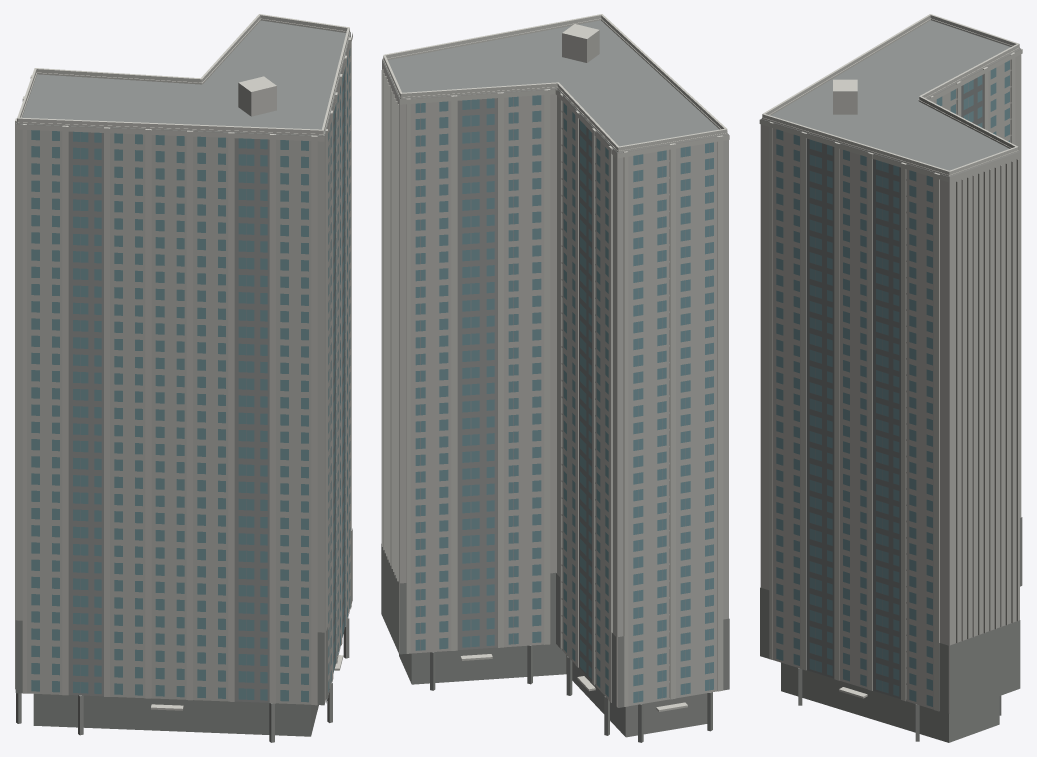
File: maple-xi-105.glb
The picture shows the model from 3 angles, left to right: view 1: azimuth 30°, elevation 25°; view 2: azimuth 150°, elevation 25°; view 3: azimuth 270°, elevation 25°; orthographic projection. The views are drawn at different scales.
Parts seen in each view (by area): view 1: maple-xi-105; view 2: maple-xi-105; view 3: maple-xi-105.
Boxes of the visible parts, box(x1,y1,x2,y2) form: maple-xi-105: box(15, 14, 352, 742); maple-xi-105: box(381, 14, 729, 742); maple-xi-105: box(759, 14, 1022, 742).
Size of the model in its own units: 65.12 by 113 by 45.17.
